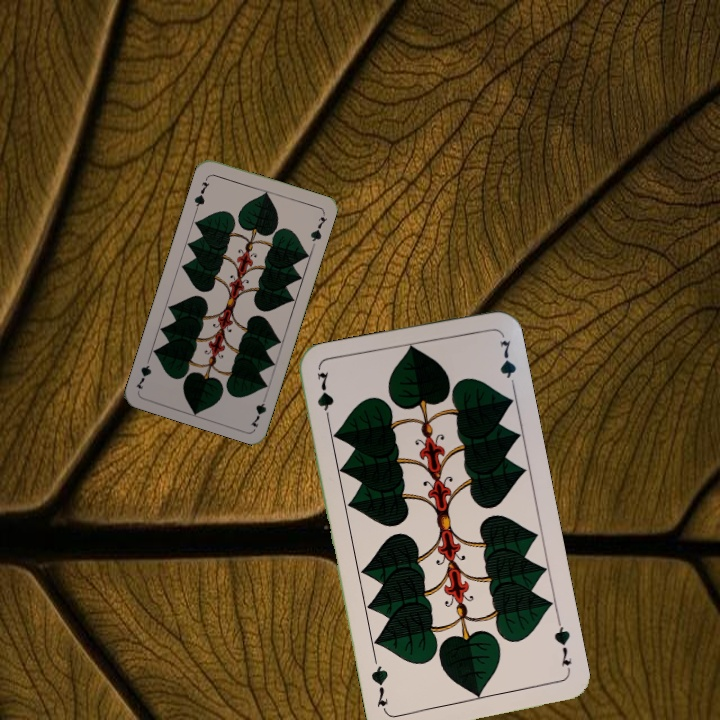G7: (550, 617, 574, 676), (313, 368, 336, 427), (247, 390, 270, 430), (190, 178, 212, 213)
